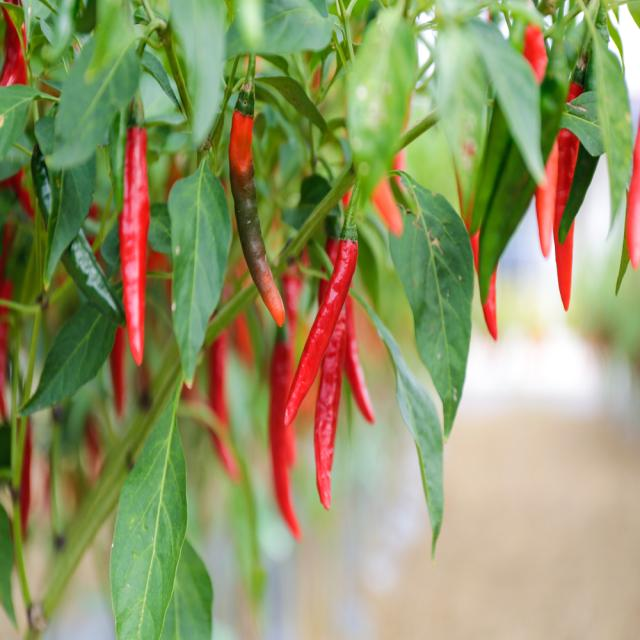Half-Ripe: (229, 54, 285, 326)
Ripe: (281, 239, 357, 424), (119, 127, 150, 365), (553, 81, 583, 314), (314, 305, 346, 509), (345, 296, 375, 424)
Unripe: (479, 56, 572, 301), (30, 152, 125, 325), (559, 142, 598, 242)
